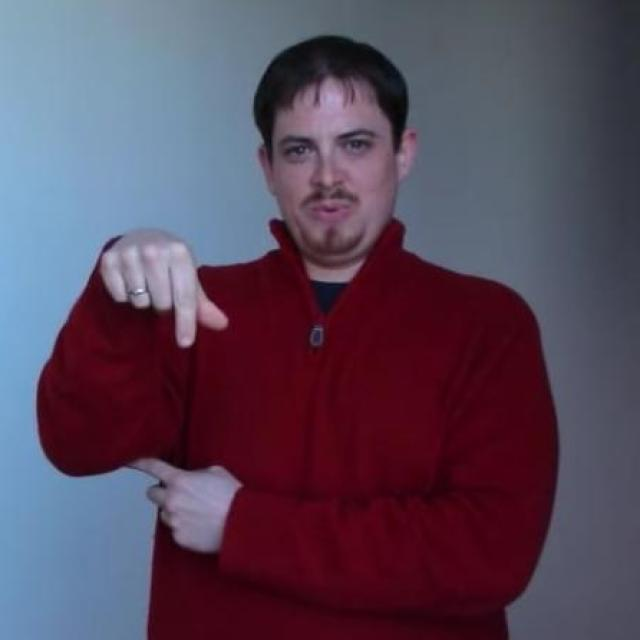Q: (97, 227, 233, 350)
